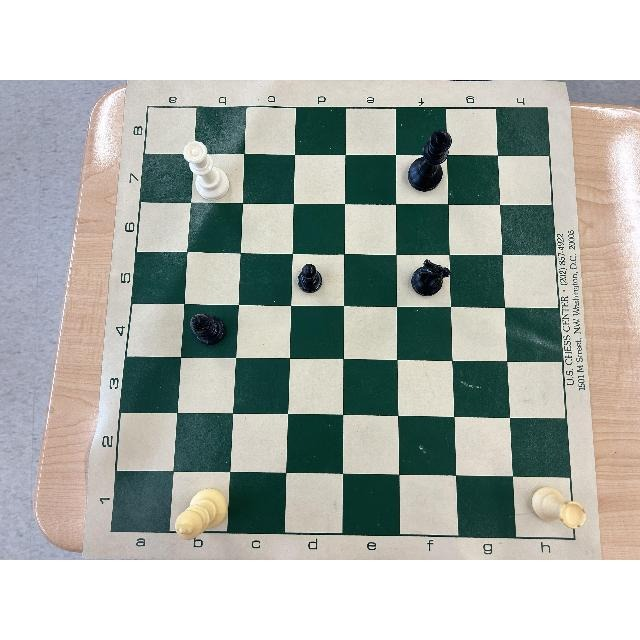black-bishop: (191, 312, 226, 346)
black-king: (408, 129, 452, 193)
black-knight: (411, 259, 451, 298)
black-pawn: (298, 263, 322, 293)
white-king: (175, 487, 228, 539)
white-queen: (183, 140, 231, 202)
white-rook: (532, 487, 587, 531)
